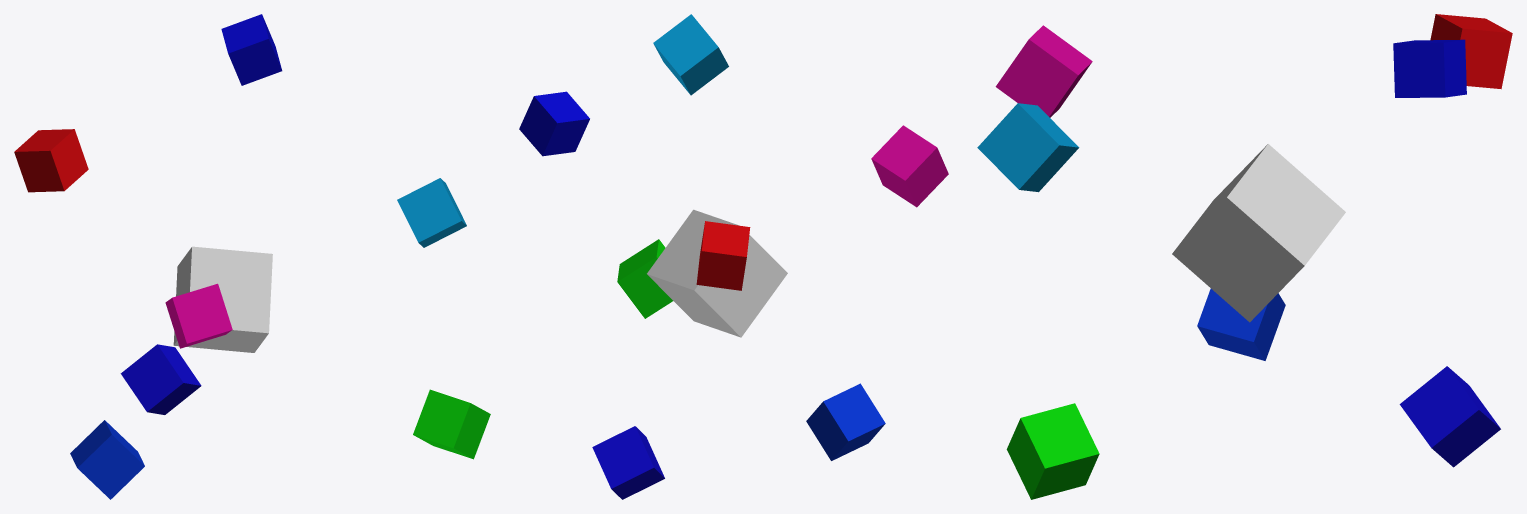
Rendered from floating_lights.obj.
The picture shows the model from 3 angles, left to right: view 1: azimuth 30°, elevation 25°; view 2: azimuth 150°, elevation 25°; view 3: azimuth 270°, elevation 25°; orthographic projection. The views are drawn at different scales.
Parts seen in each view (by area): view 1: Cube_Cube.001, Cube.006_Cube.007, Cube.007_Cube.008, Cube.003_Cube.004, Cube.004_Cube.005, Cube.005_Cube.006, Cube.002_Cube.003, Cube.001_Cube.002; view 2: Cube_Cube.001, Cube.005_Cube.006, Cube.004_Cube.005, Cube.002_Cube.003, Cube.001_Cube.002, Cube.007_Cube.008, Cube.006_Cube.007, Cube.003_Cube.004; view 3: Cube_Cube.001, Cube.003_Cube.004, Cube.007_Cube.008, Cube.002_Cube.003, Cube.005_Cube.006, Cube.001_Cube.002, Cube.004_Cube.005, Cube.006_Cube.007.
Part boxes in pixels (x1,y1,x2,y2): Cube_Cube.001: [173, 246, 272, 352]; Cube.006_Cube.007: [14, 129, 88, 192]; Cube.007_Cube.008: [120, 344, 201, 414]; Cube.003_Cube.004: [413, 389, 490, 459]; Cube.004_Cube.005: [70, 420, 144, 499]; Cube.005_Cube.006: [165, 283, 232, 348]; Cube.002_Cube.003: [397, 178, 466, 247]; Cube.001_Cube.002: [221, 14, 282, 85]; Cube_Cube.001: [647, 209, 787, 337]; Cube.005_Cube.006: [871, 125, 948, 207]; Cube.004_Cube.005: [806, 383, 885, 460]; Cube.002_Cube.003: [653, 14, 728, 95]; Cube.001_Cube.002: [519, 91, 589, 156]; Cube.007_Cube.008: [592, 426, 664, 499]; Cube.006_Cube.007: [696, 221, 750, 290]; Cube.003_Cube.004: [617, 239, 672, 318]; Cube_Cube.001: [1172, 144, 1345, 322]; Cube.003_Cube.004: [1006, 403, 1099, 499]; Cube.007_Cube.008: [1399, 366, 1500, 467]; Cube.002_Cube.003: [977, 103, 1079, 192]; Cube.005_Cube.006: [995, 25, 1092, 117]; Cube.001_Cube.002: [1393, 39, 1466, 97]; Cube.004_Cube.005: [1197, 288, 1285, 360]; Cube.006_Cube.007: [1430, 14, 1512, 89].
Size of the model in its own units: 2.07 by 2.21 by 2.23.
